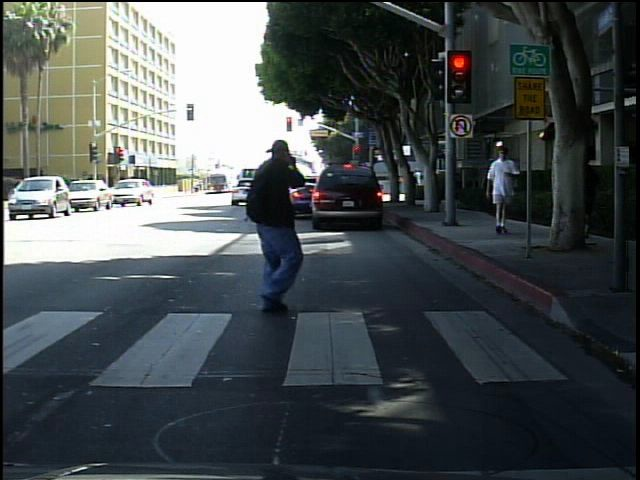person: (211, 124, 323, 338), (481, 145, 524, 239), (572, 137, 605, 246)
